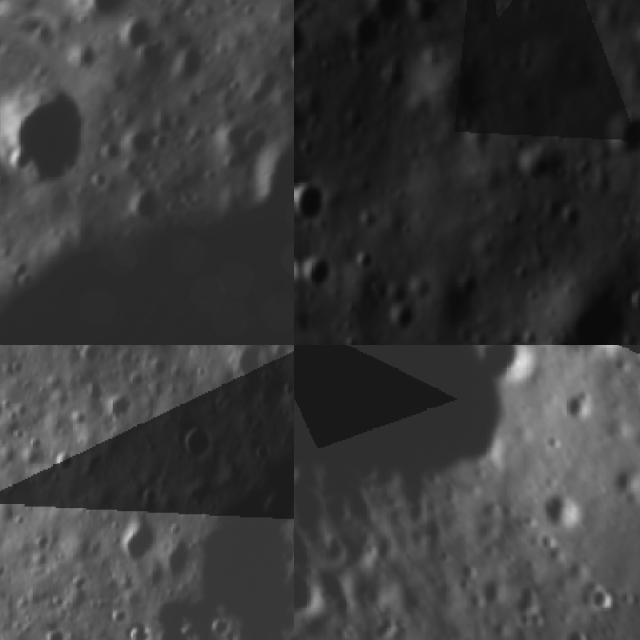crater: (294, 345, 540, 538), (0, 57, 123, 212), (171, 496, 294, 640), (200, 104, 280, 186), (563, 278, 637, 345), (64, 0, 164, 42), (120, 176, 180, 235), (161, 35, 218, 93), (593, 101, 640, 163), (115, 112, 167, 166), (294, 171, 338, 231), (117, 2, 164, 54), (0, 130, 48, 179), (154, 601, 208, 640), (179, 423, 223, 464), (350, 14, 390, 59), (298, 248, 337, 294), (121, 522, 161, 566), (107, 383, 144, 427), (232, 345, 272, 384), (555, 194, 591, 237), (276, 28, 294, 94), (294, 17, 314, 63), (52, 450, 82, 480), (622, 275, 640, 324), (31, 621, 71, 640), (534, 333, 586, 345), (0, 130, 12, 181)
